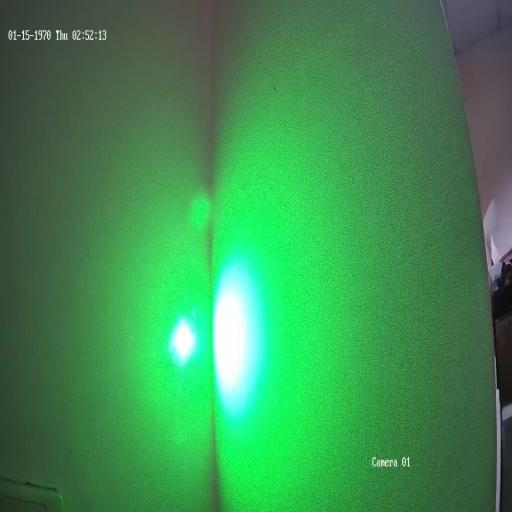laser: (162, 298, 200, 379)
